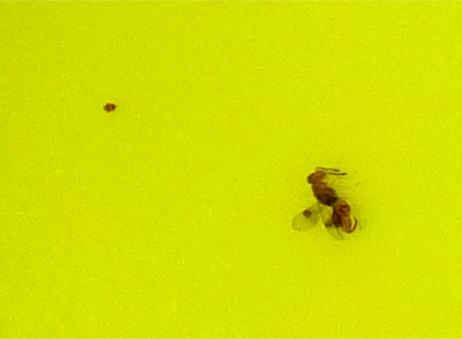Hymenoptera: (299, 165, 362, 239)
